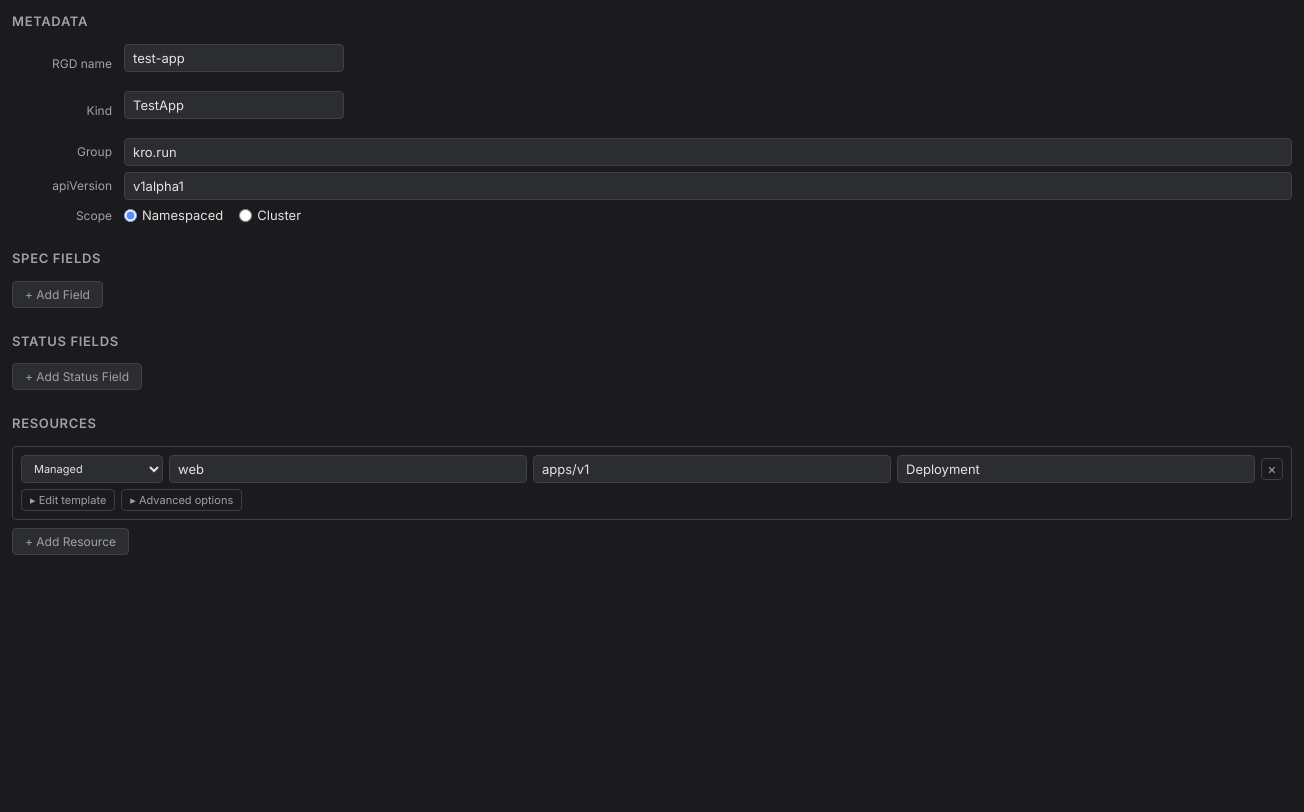
Test: Template editor (US1) › hides template textarea after second click (collapse)
Click the button with test id "template-expand-res-0": (68, 500) [21,489,115,511]
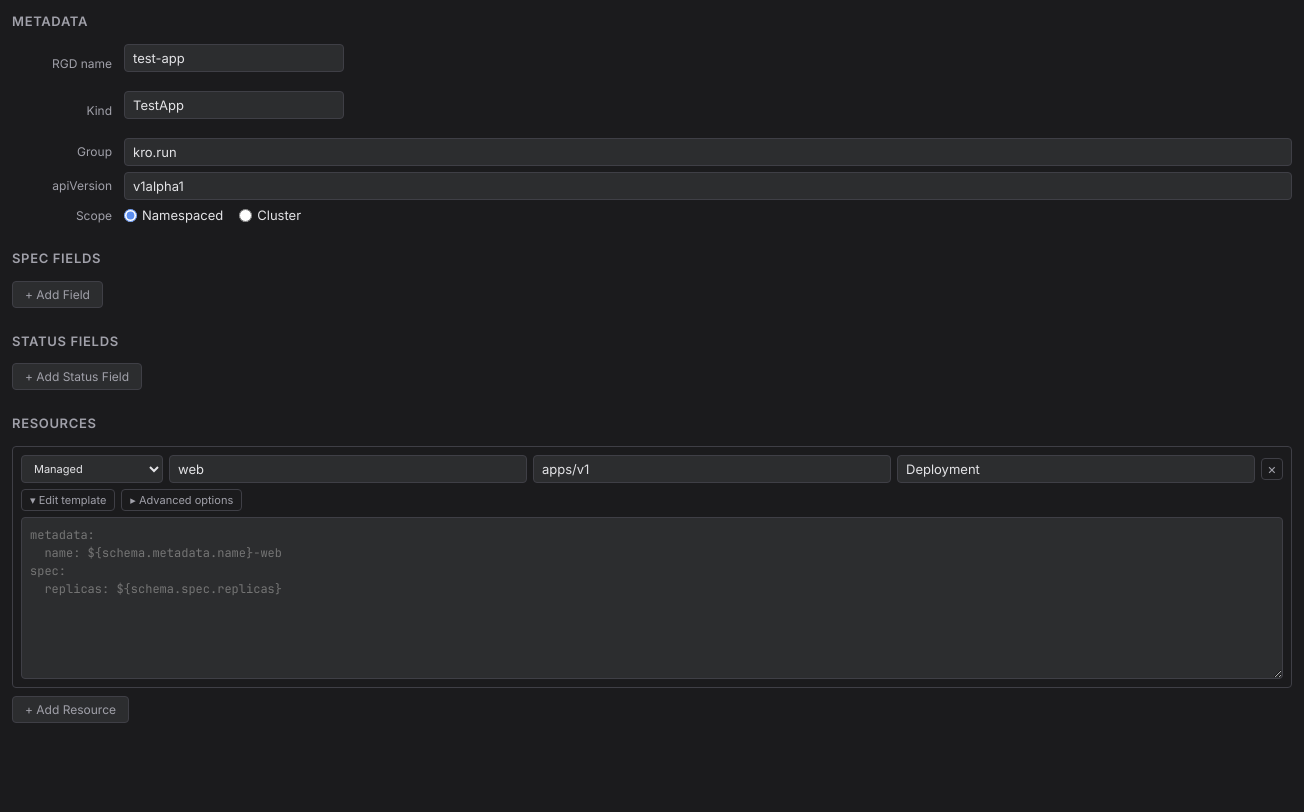
Click the button with test id "template-expand-res-0": (68, 500) [21,489,115,511]
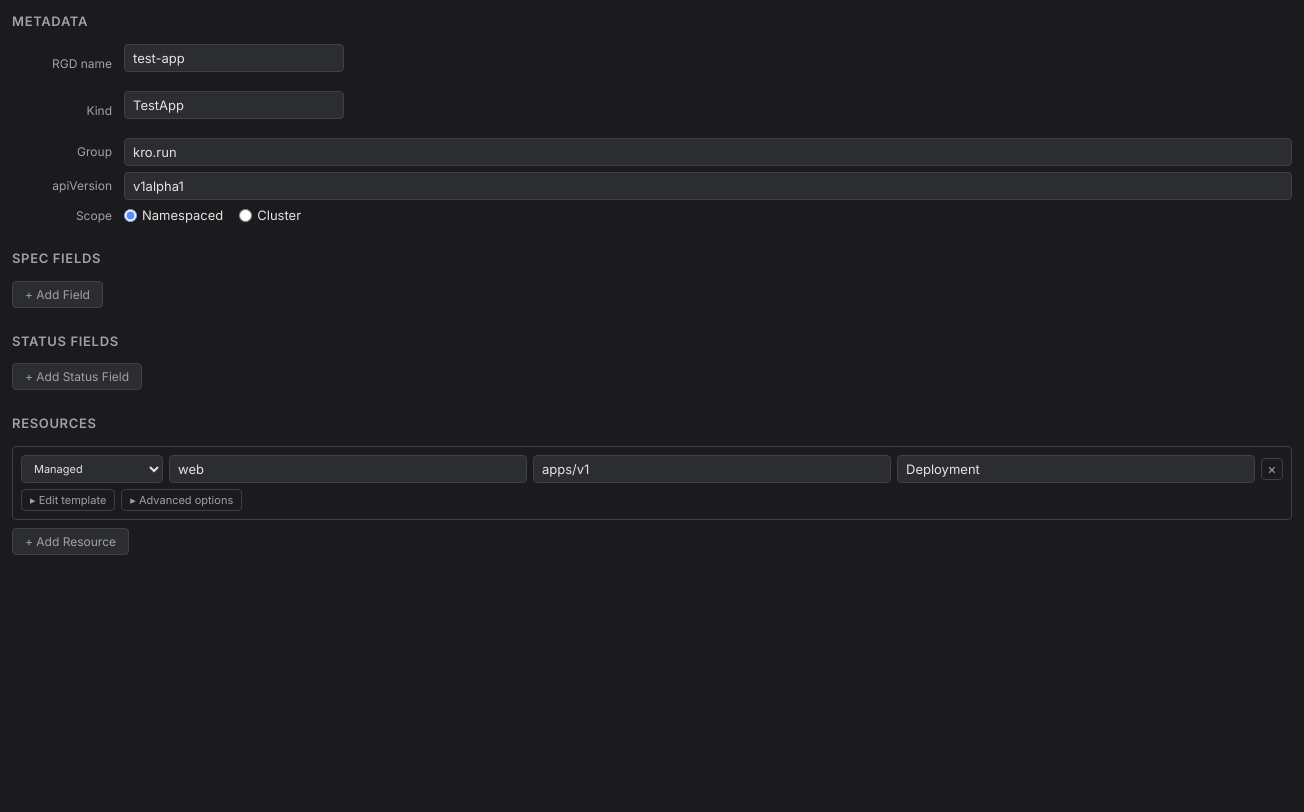
Now the text box with test id "template-body-res-0" is gone
